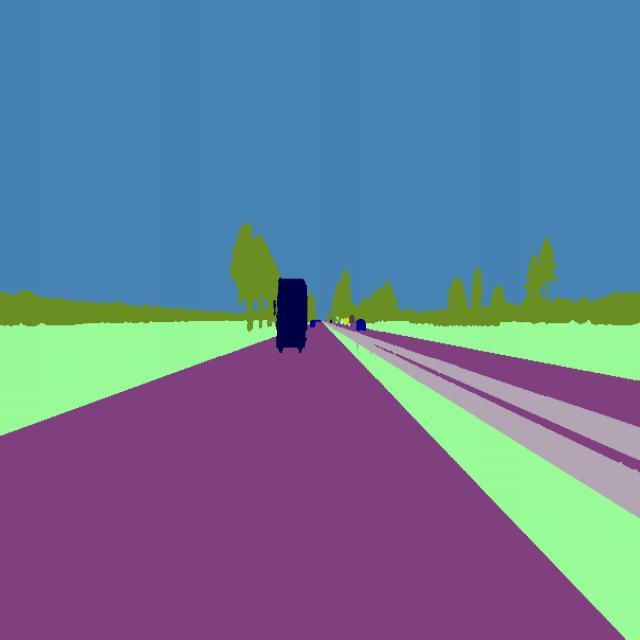safe: (274, 276, 310, 356), (353, 316, 368, 334)
